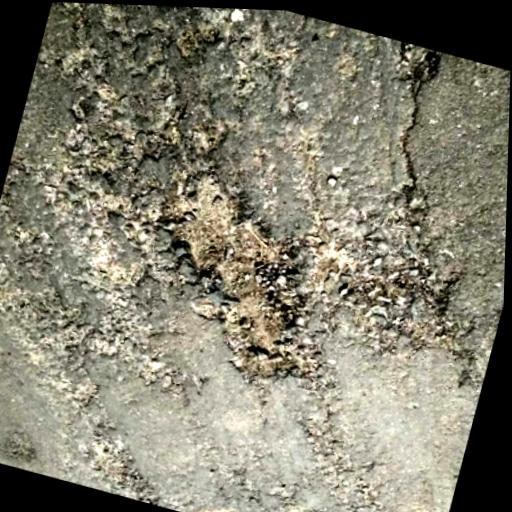pothole: (125, 169, 366, 406)
